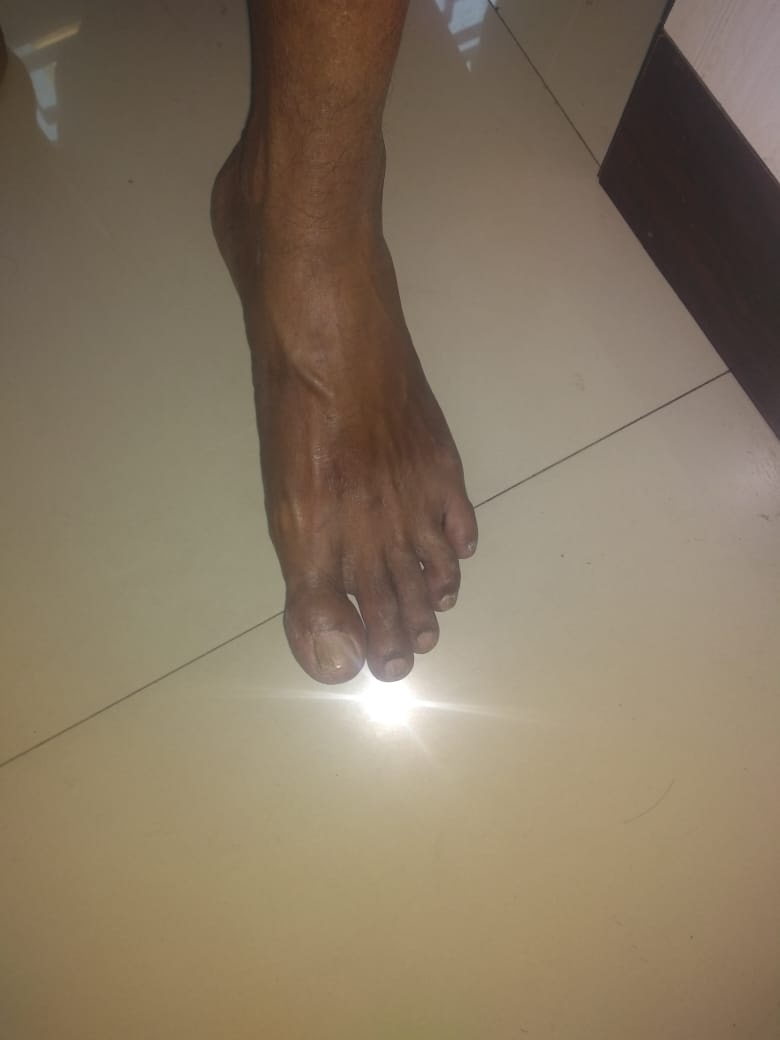feet: (155, 93, 490, 692)
